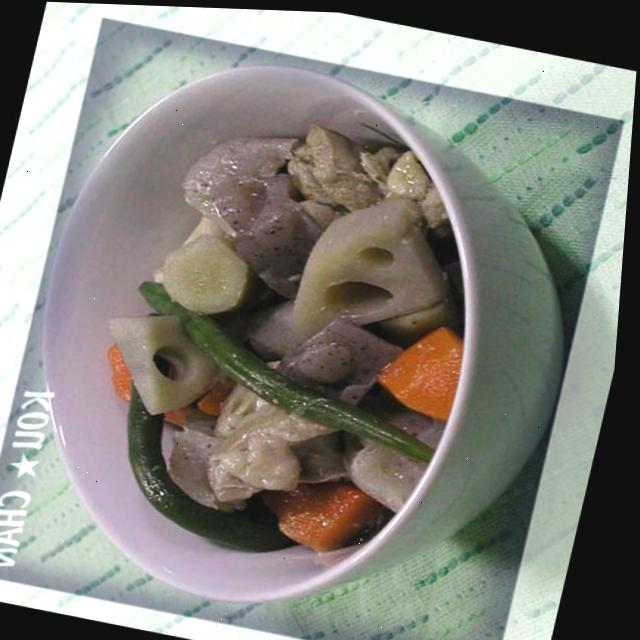鸡肉料理 含炸鸡: (56, 42, 529, 603)
